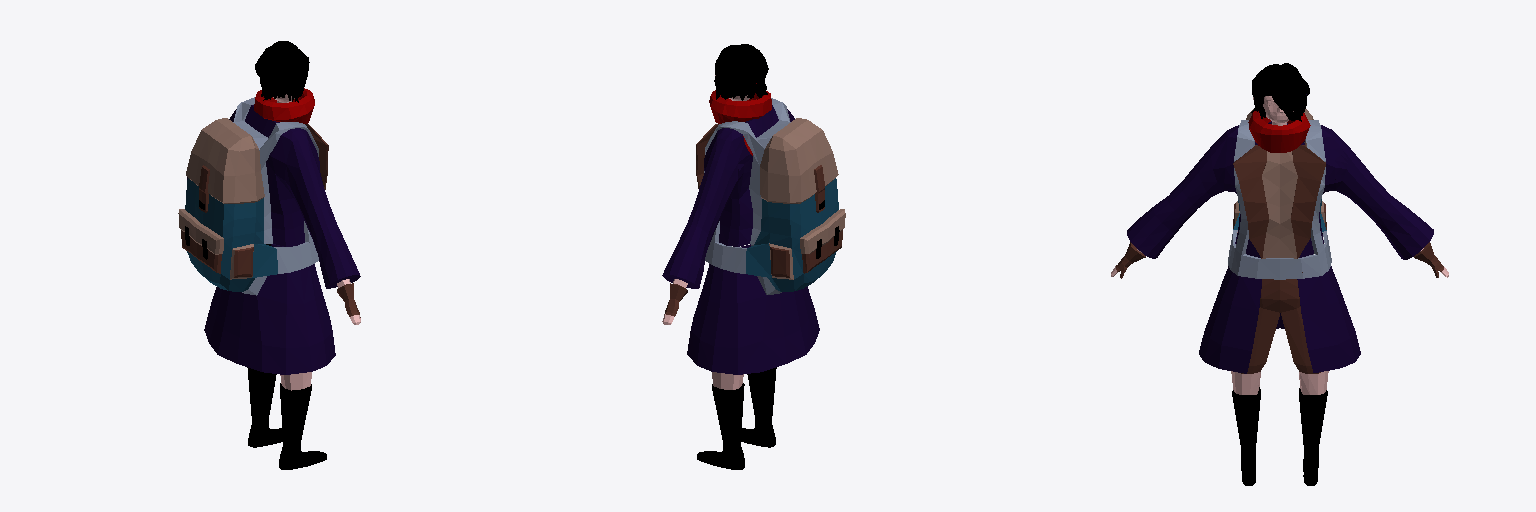
The picture shows the model from 3 angles: view 1: azimuth 30°, elevation 25°; view 2: azimuth 150°, elevation 25°; view 3: azimuth 270°, elevation 25°; orthographic projection.
Parts seen in each view (by area): view 1: Character.009; view 2: Character.009; view 3: Character.009.
Boxes of the visible parts, x1=… form: Character.009: x1=178, y1=41, x2=360, y2=469; Character.009: x1=662, y1=44, x2=845, y2=469; Character.009: x1=1111, y1=63, x2=1448, y2=485.
Size of the model in its own units: 0.539 by 1.72 by 1.29.
1 materials, 1 textured.